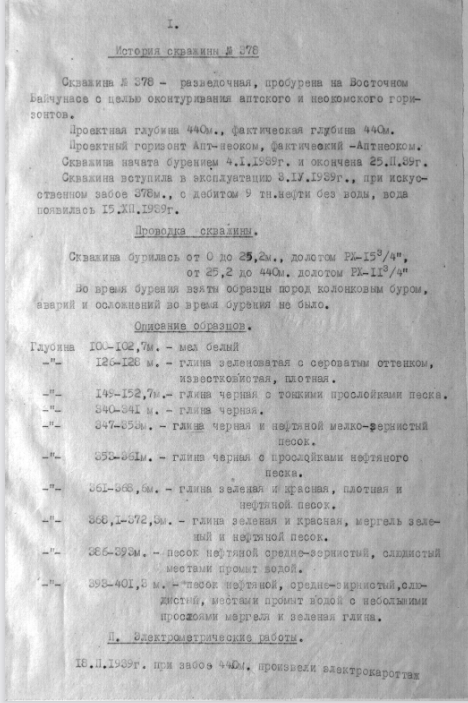Borderless: (12, 338, 461, 618)
